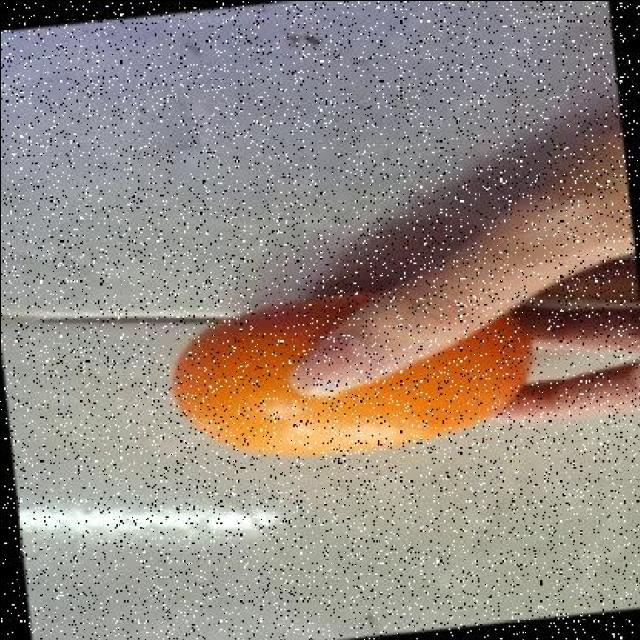Orange: (170, 289, 534, 460)
